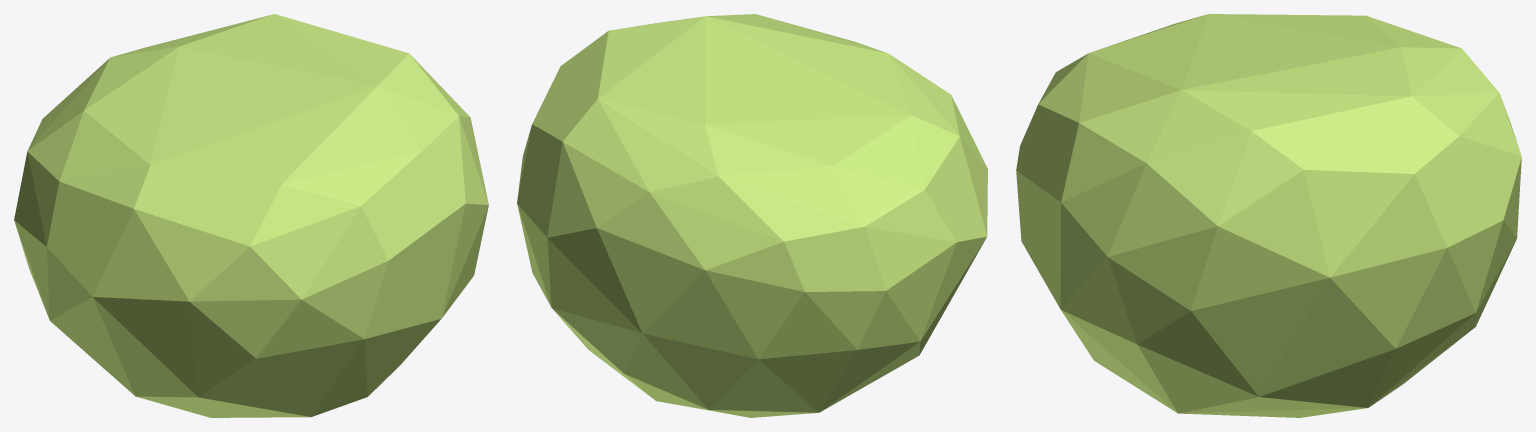
Rendered from Bush_f_m_03.fbx.
The picture shows the model from 3 angles, left to right: view 1: azimuth 30°, elevation 25°; view 2: azimuth 150°, elevation 25°; view 3: azimuth 270°, elevation 25°; orthographic projection. The views are drawn at different scales.
Parts seen in each view (by area): view 1: Bush_f_m_03; view 2: Bush_f_m_03; view 3: Bush_f_m_03.
Part boxes in pixels (x1,y1,x2,y2): Bush_f_m_03: (14, 14, 488, 417); Bush_f_m_03: (517, 14, 987, 417); Bush_f_m_03: (1016, 14, 1521, 417).
Bounding box in the file's own units: 154 × 117 × 152.
